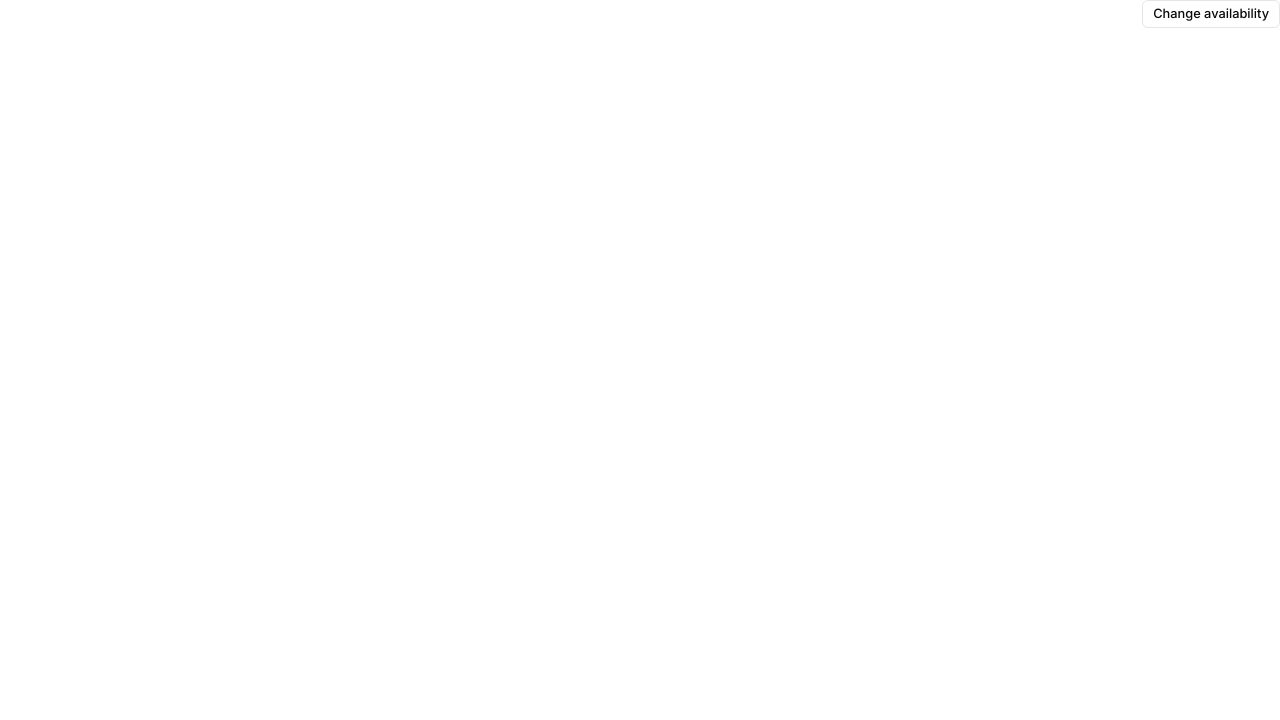
Test case: branch product availability form › confirms a dirty availability change before closing
Later steps or results of the test are not shown.
Click the button "Change availability" at (1211, 14), box [1142,0,1279,28]
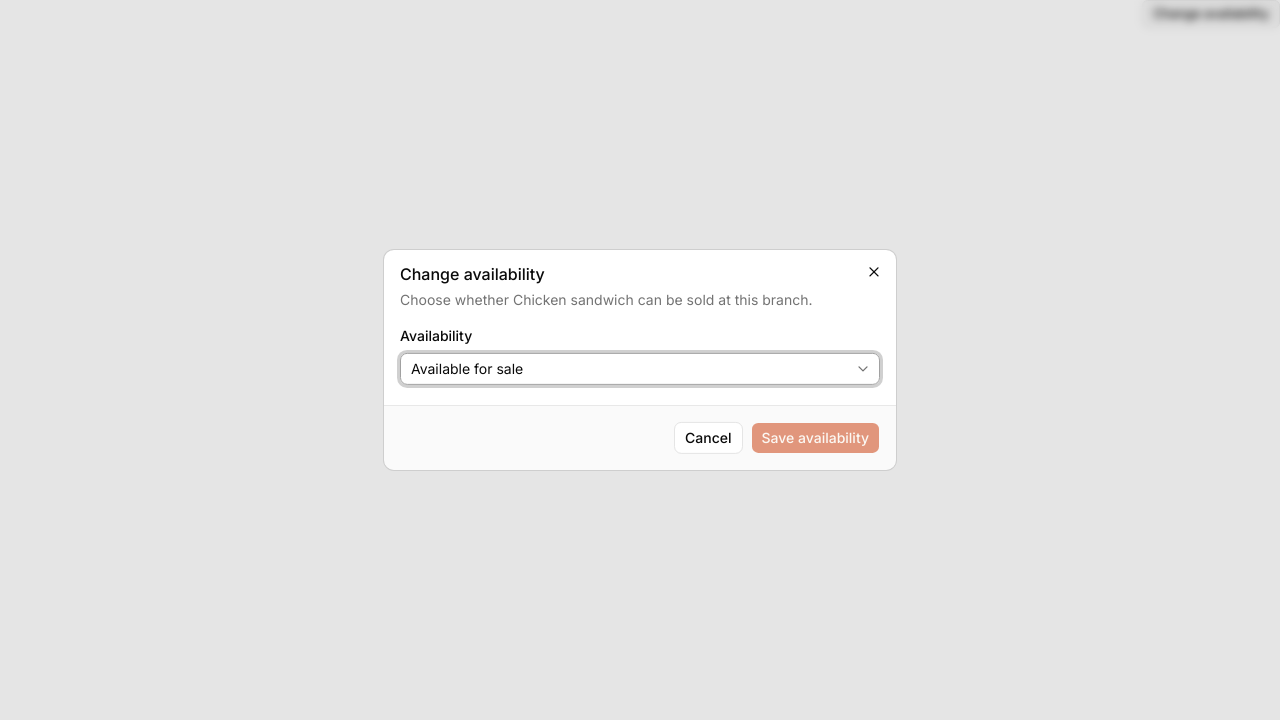
Click the dropdown named "Availability" at (467, 369), box [400,353,880,385]
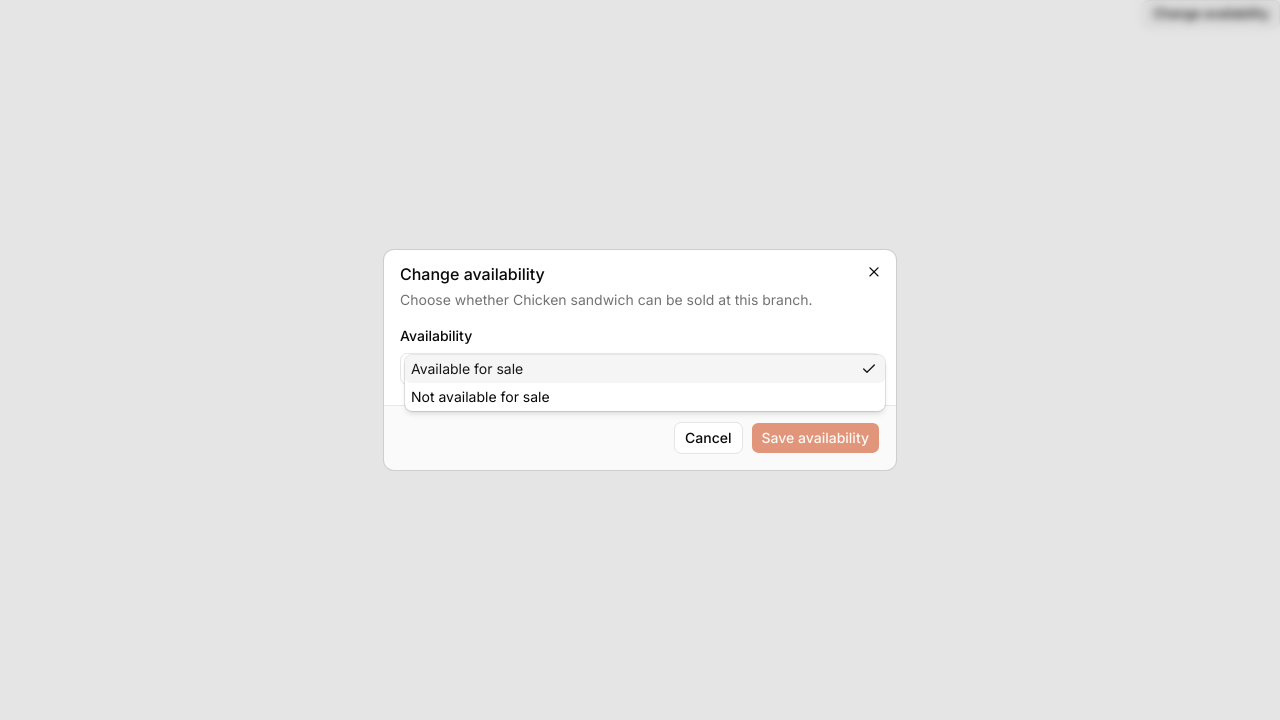
Click the option "Not available for sale" at (480, 397), box [411,388,550,405]
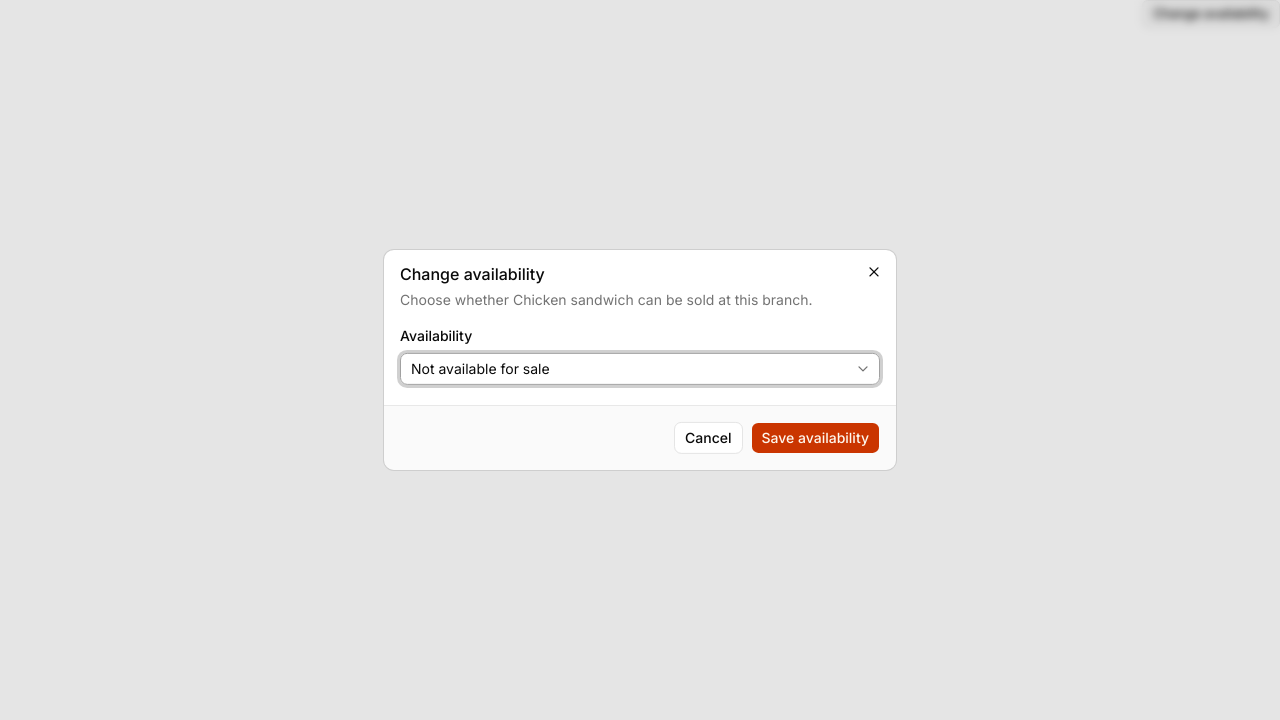
Click the button "Cancel" at (708, 438), box [674,422,742,454]
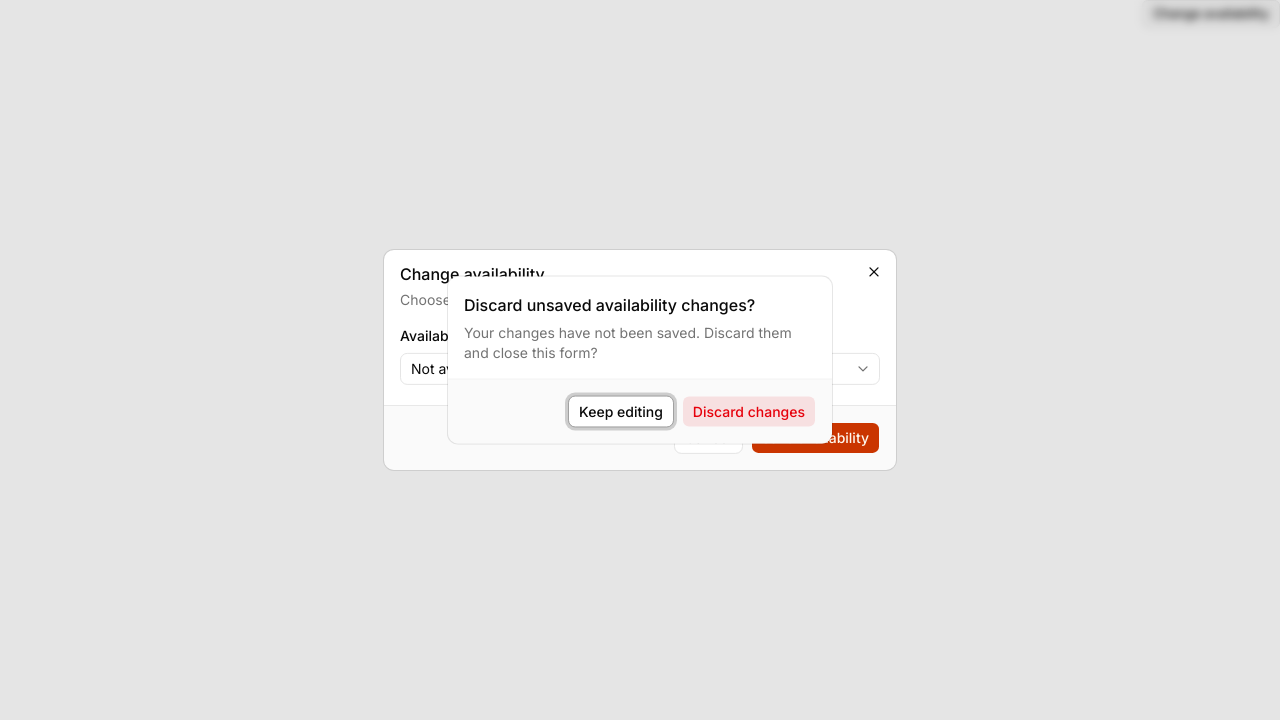
Expected: the dialog "Discard unsaved availability changes?" is shown, [448,276,832,444]
Click the button "Keep editing" at (621, 412), box [568,396,674,428]
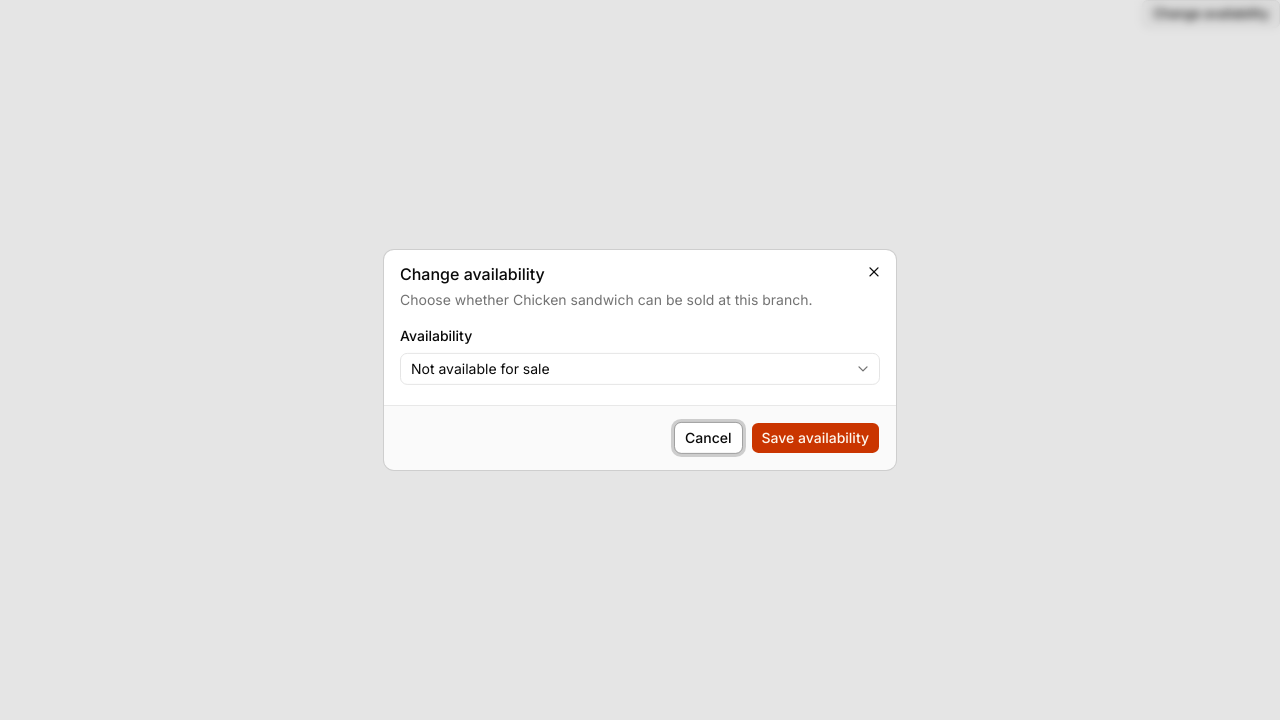
Expected: the dropdown named "Availability" shows "Not available for sale", [400,353,880,385]
